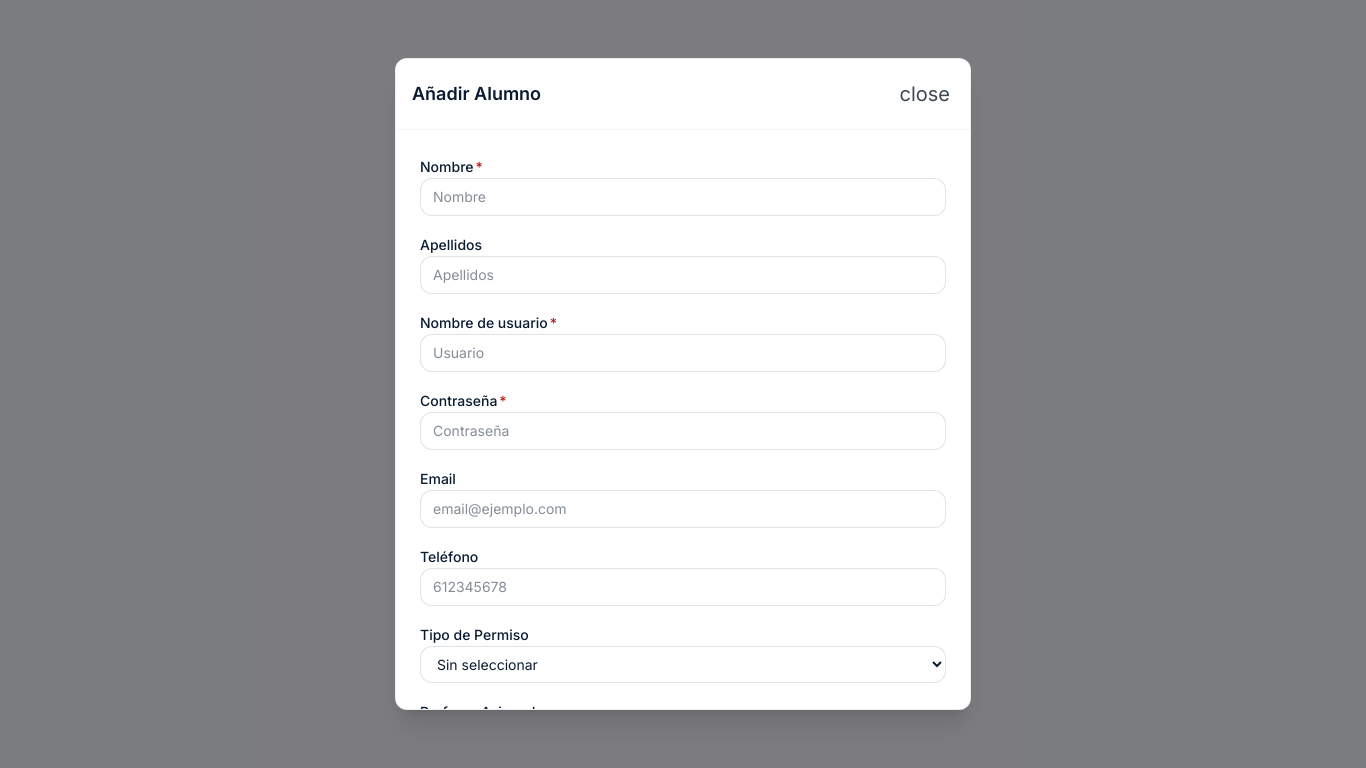
Scenario: CreateStudentModal › shows error message when createStudent fails
Type "John" into the field with placeholder "Nombre" at (683, 197), box [420, 178, 946, 216]
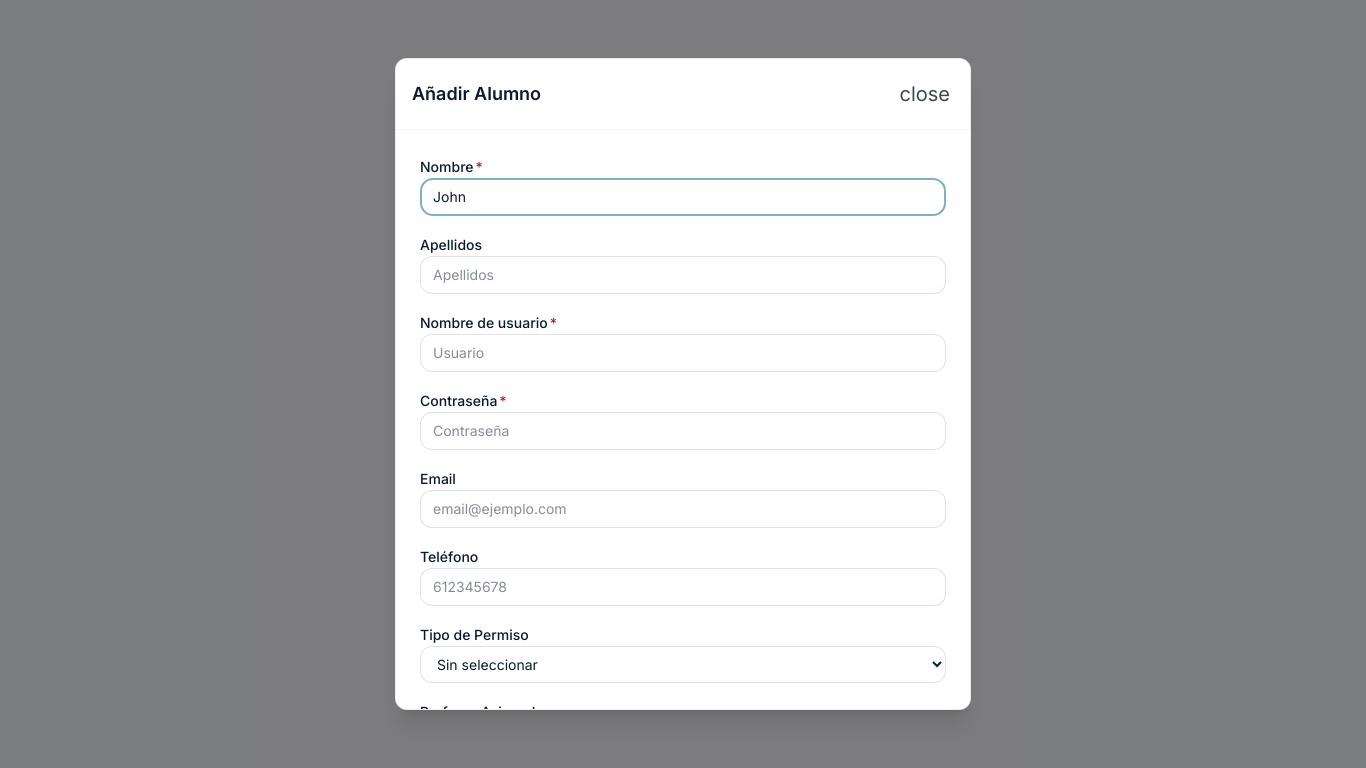
Type "john123" into the field with placeholder "Usuario" at (683, 353), box [420, 334, 946, 372]
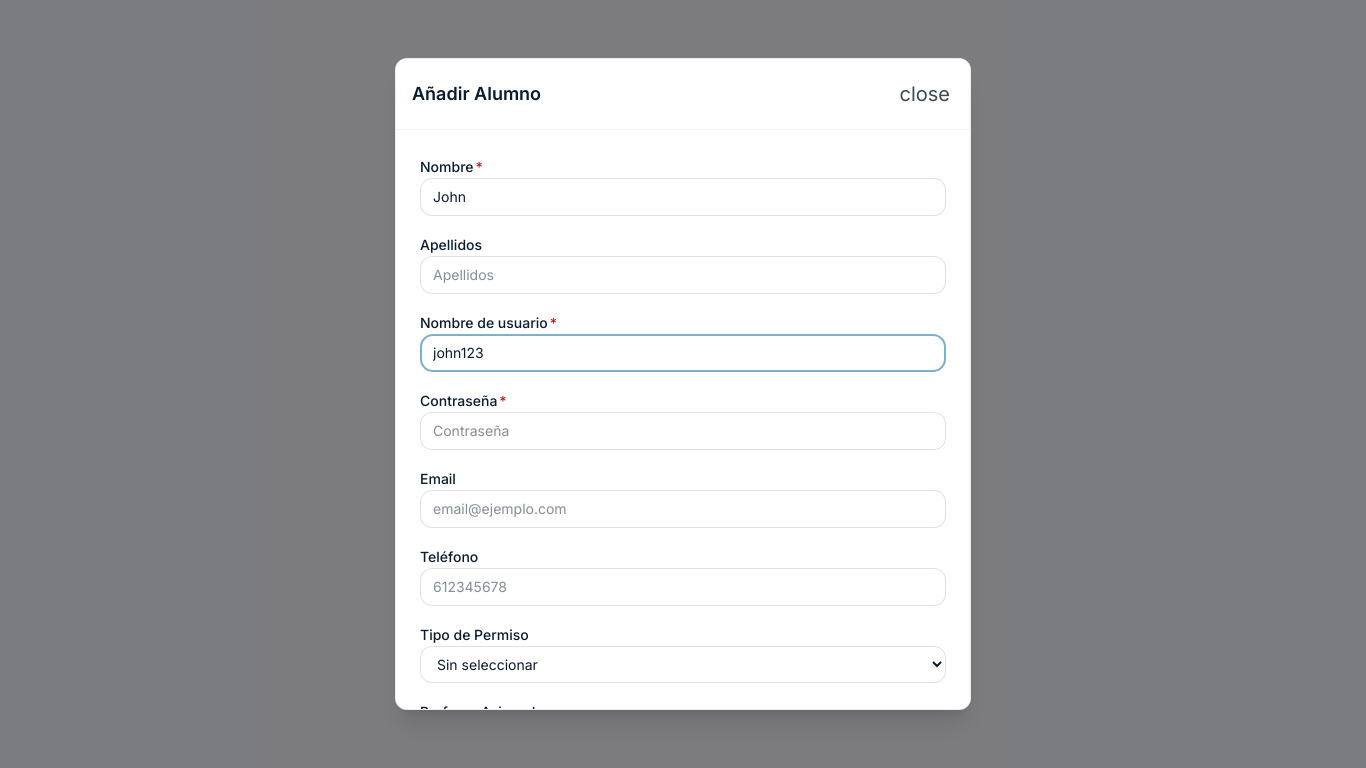
Type "password123" into the password field with placeholder "Contraseña" at (683, 431), box [420, 412, 946, 450]
(page scrolled)
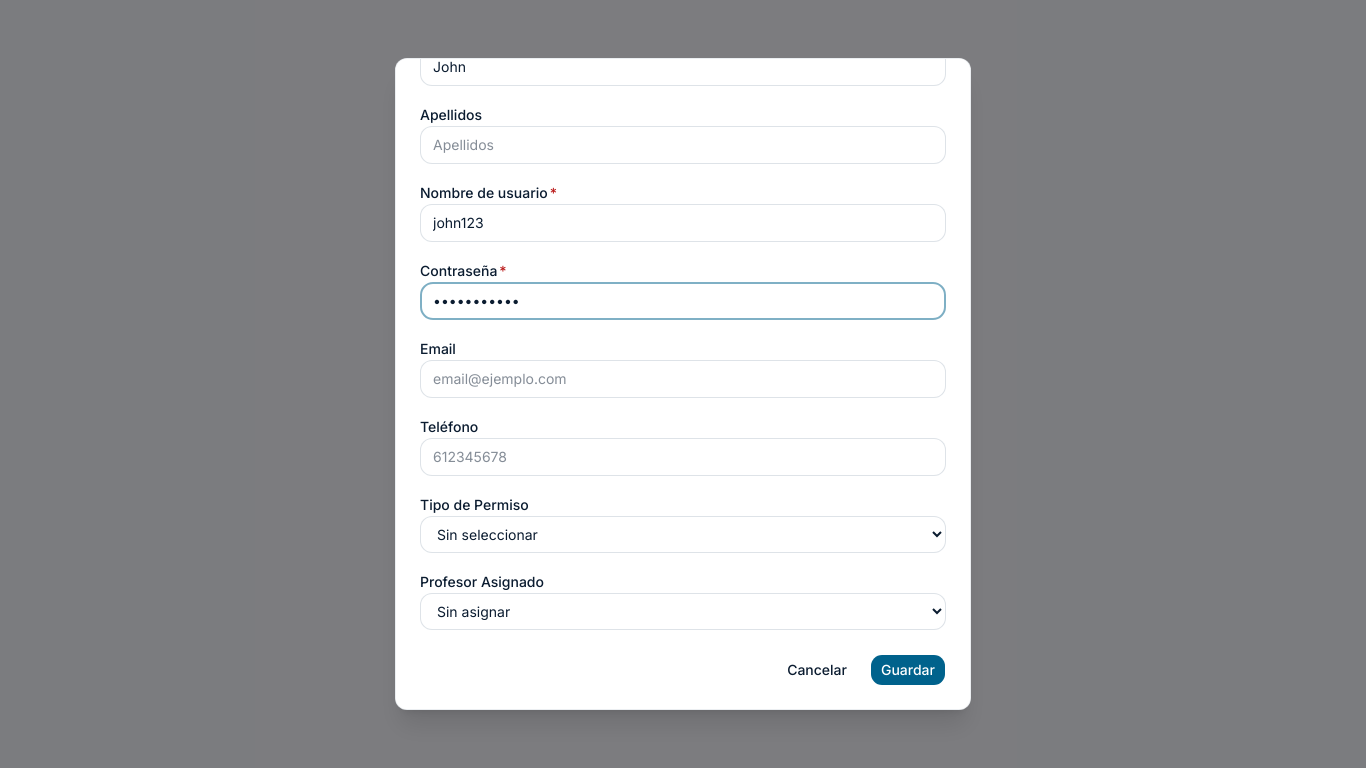
Click the button "Guardar" at (908, 670), box [870, 654, 946, 686]
(page scrolled)
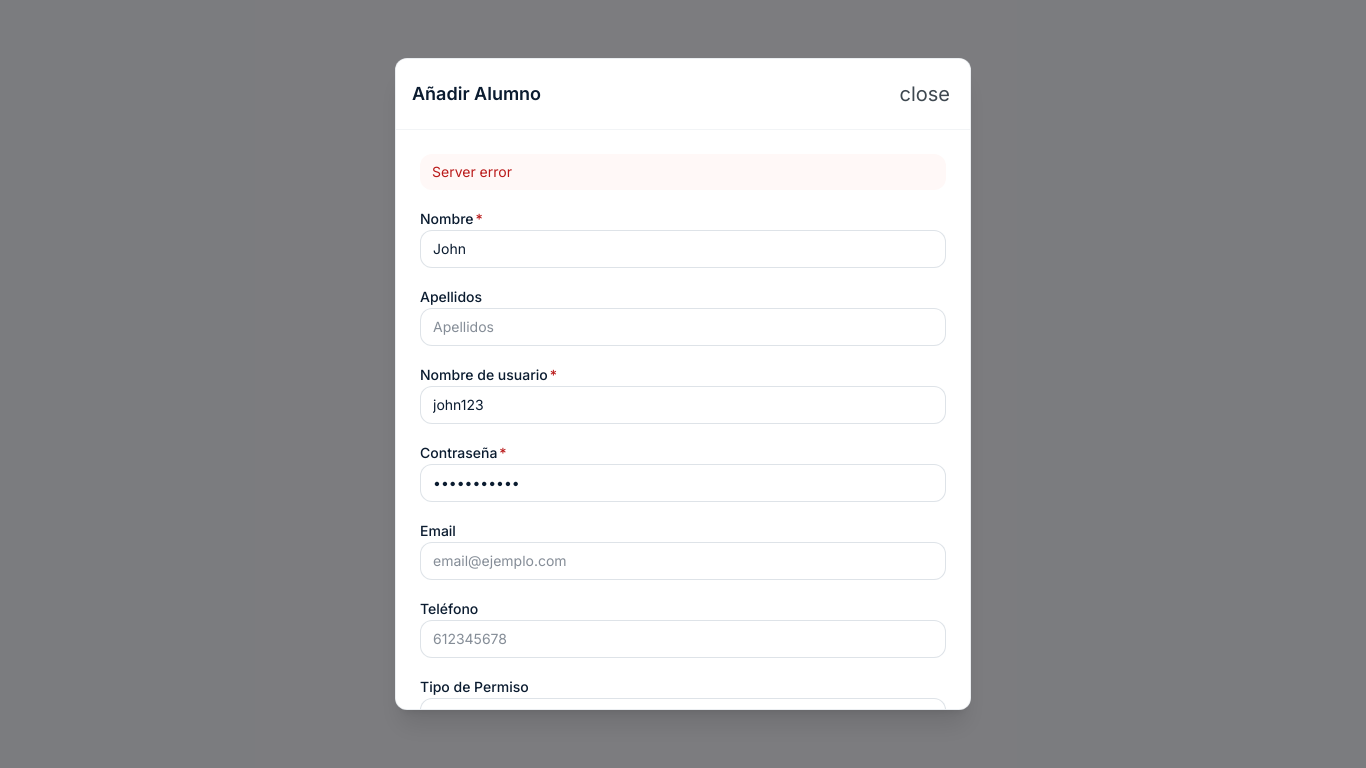
Now the text "Server error" is shown, box [420, 154, 946, 190]
